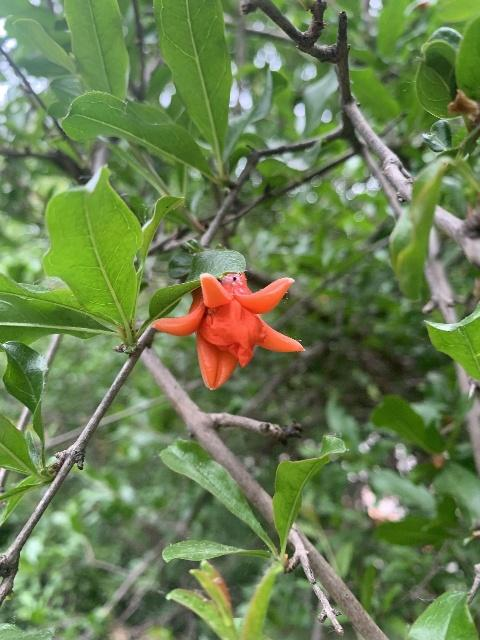flower: (152, 270, 305, 389)
